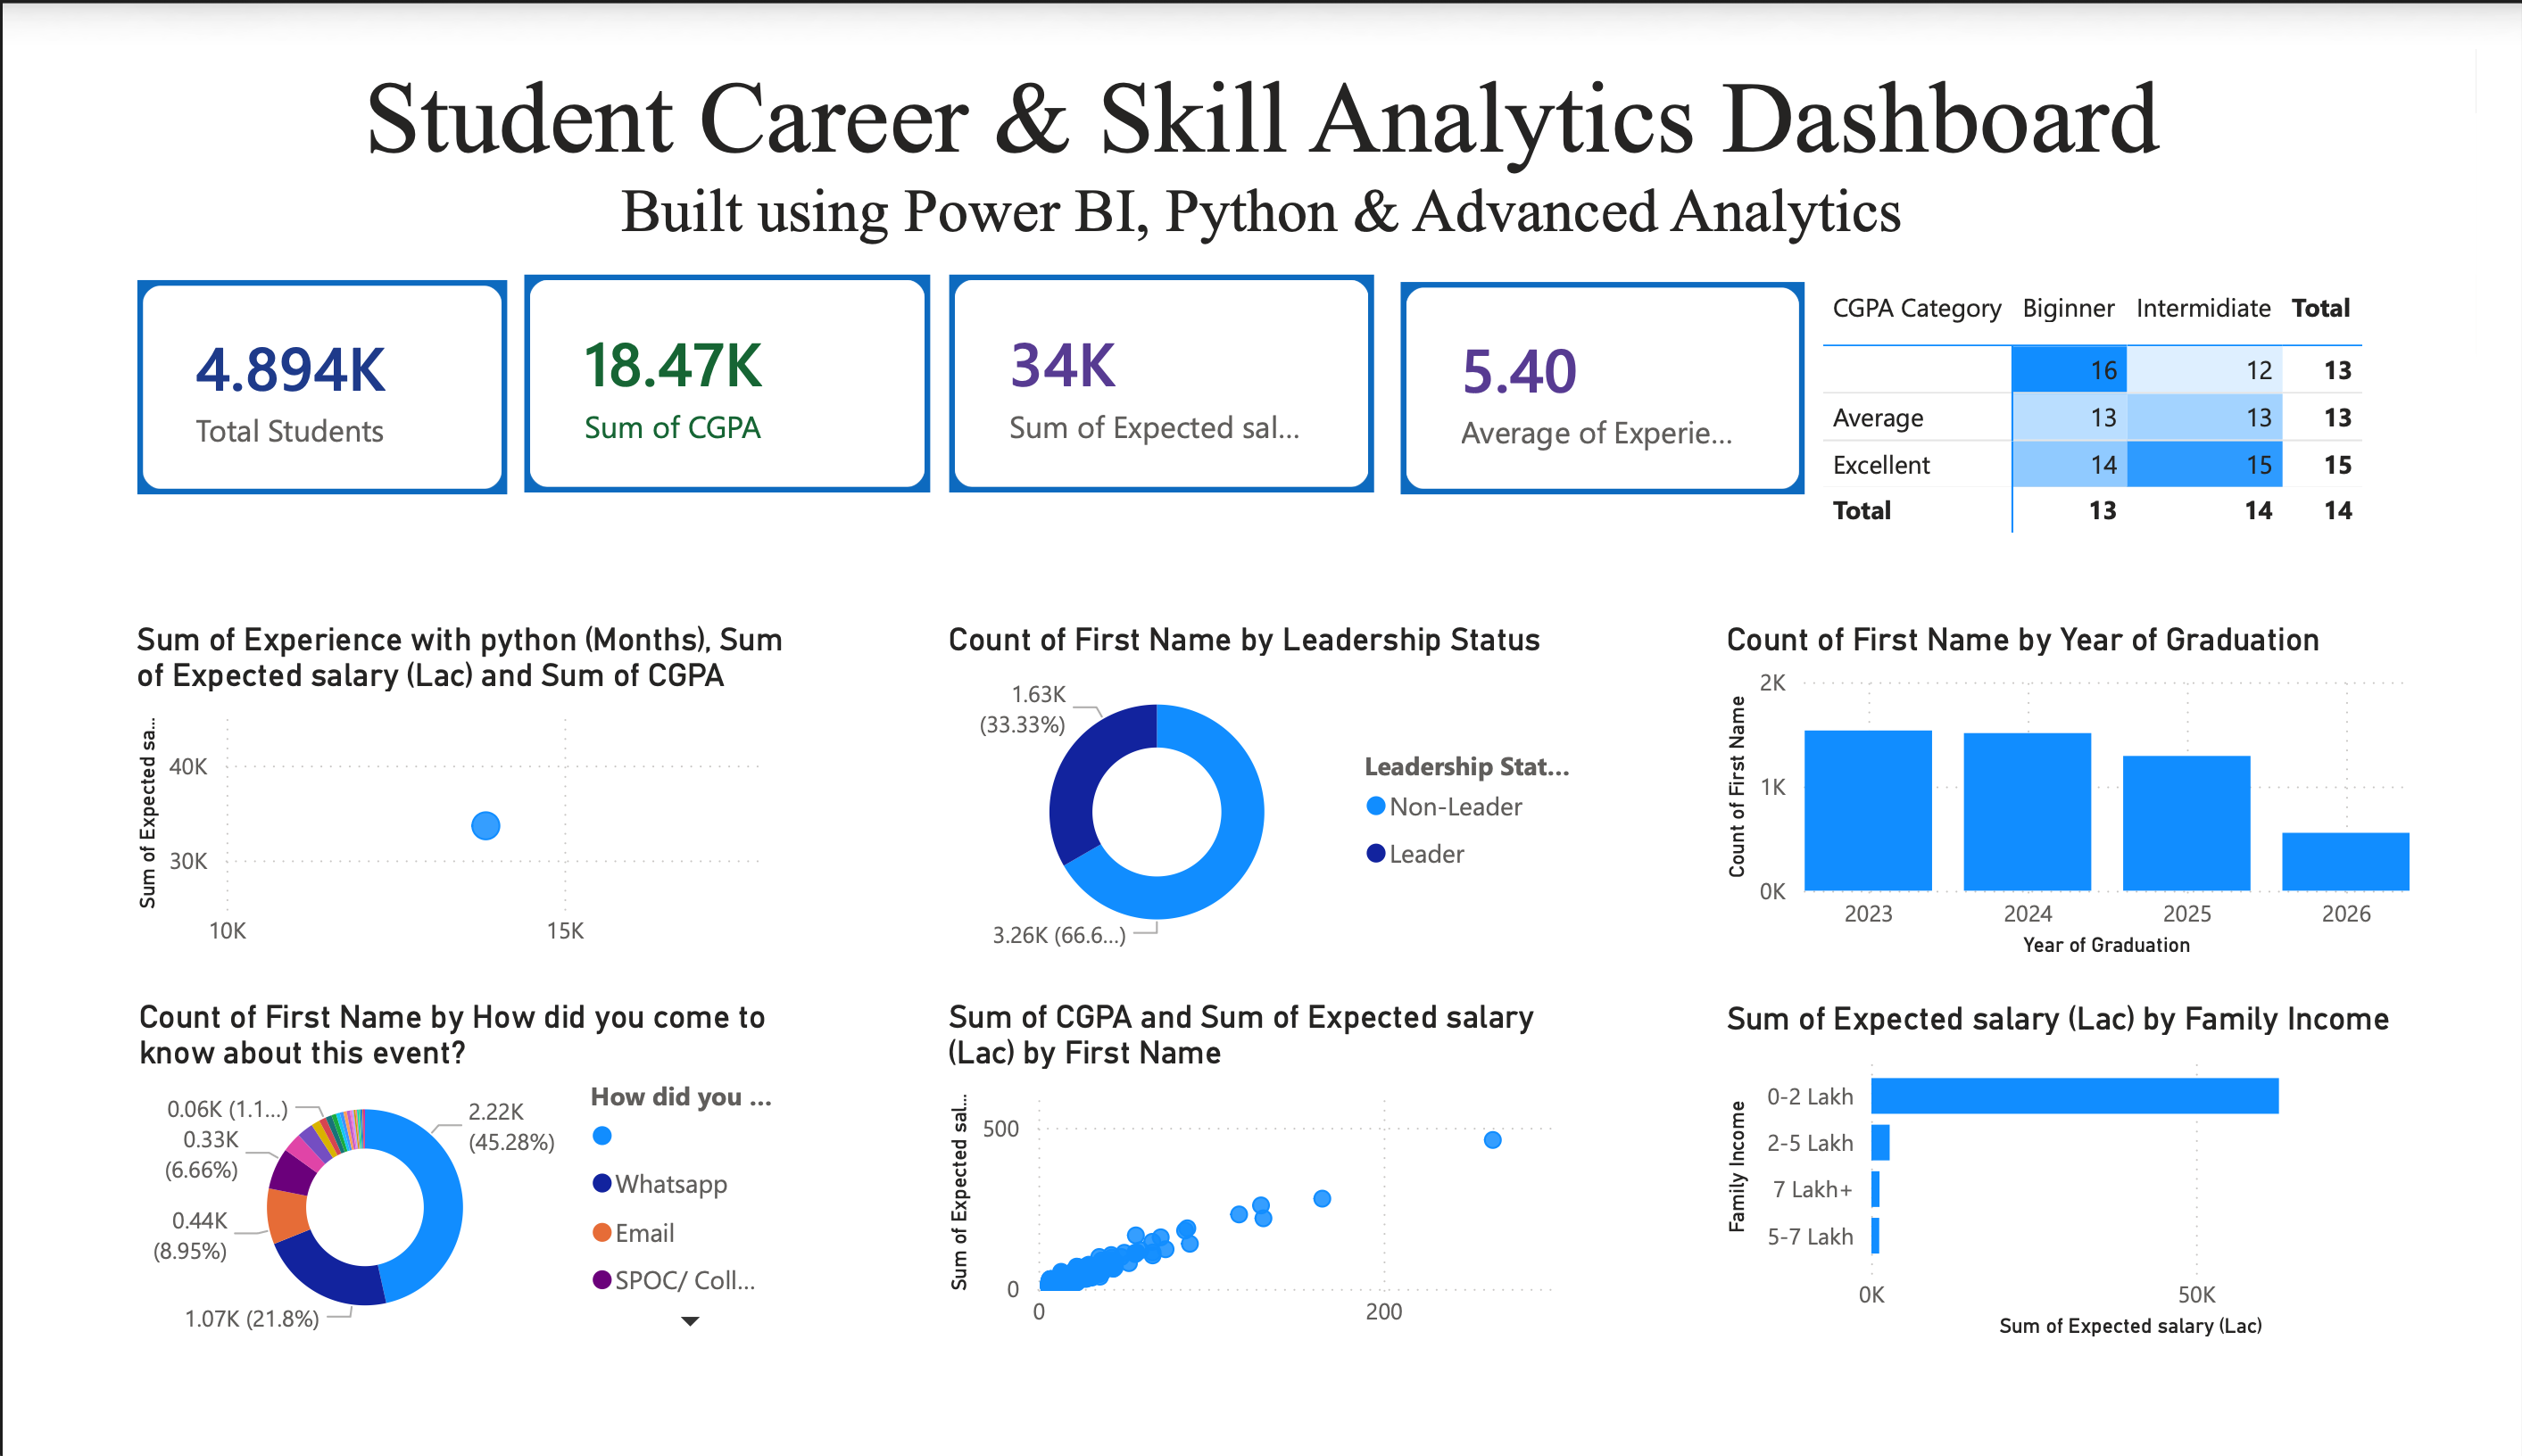

The page's visual inventory and layout, read from the dashboard file:
{"tool":"powerbi","page":{"name":"Page 1","canvas":[1280,720],"ordinal":0},"visuals":[{"type":"cardVisual","title":"Total Students","fields":{"Data":["CountNonNull(Data.First Name)"]},"box":[42.2,116.7,205.6,123.3],"z":0},{"type":"cardVisual","fields":{"Data":["Sum(Data.CGPA)"]},"box":[245.6,114.4,224.4,125.6],"z":1000},{"type":"cardVisual","fields":{"Data":["Sum(Data.Expected salary (Lac))"]},"box":[470,114.4,234.4,125.6],"z":2000},{"type":"scatterChart","fields":{"X":["Sum(Data.CGPA)"],"Y":["Sum(Data.Expected salary (Lac))"],"Category":["Data.First Name"]},"box":[470,500,340,184.3],"z":3000},{"type":"scatterChart","fields":{"X":["Sum(Data.Experience with python (Months))"],"Y":["Sum(Data.Expected salary (Lac))"],"Size":["Sum(Data.CGPA)"]},"box":[42.4,300.8,351.3,181.7],"z":4000},{"type":"donutChart","fields":{"Y":["CountNonNull(Data.First Name)"],"Category":["Data.Leadership Status"]},"box":[470.4,300.8,339.2,183.7],"z":5000},{"type":"donutChart","fields":{"Category":["Data.How did you come to know about this event?"],"Y":["CountNonNull(Data.First Name)"]},"box":[42.9,500,351.4,184.3],"z":6000},{"type":"clusteredColumnChart","fields":{"Category":["Data.Year of Graduation"],"Y":["CountNonNull(Data.First Name)"]},"box":[880.3,300.8,369.5,181.7],"z":7000},{"type":"barChart","fields":{"Category":["Data.Family Income"],"Y":["Sum(Data.Expected salary (Lac))"]},"box":[880.3,500.7,369.5,183.7],"z":8000},{"type":"pivotTable","fields":{"Rows":["Data.CGPA Category"],"Columns":["Data.Python Skill Level"],"Values":["Avg(Data.Expected salary (Lac))"]},"box":[931.4,118.6,300,145.7],"z":9000},{"type":"textbox","box":[0,0,1280,119.1],"z":10000},{"type":"cardVisual","fields":{"Data":["Avg(Data.Experience with python (Months))"]},"box":[707.8,117.8,223.3,122.2],"z":10001}]}

Visuals, with their boxes in screenshot pixels (x1, y1, x2, y2), scaled from the page's 1280x720 canvas onto the 2522x1456 screenshot:
"Total Students" cardVisual: 83, 236, 488, 485
cardVisual - Sum(Data.CGPA): 484, 231, 926, 485
cardVisual - Sum(Data.Expected salary (Lac)): 926, 231, 1388, 485
scatterChart - Sum(Data.CGPA) x Sum(Data.Expected salary (Lac)): 926, 1011, 1596, 1384
scatterChart - Sum(Data.Experience with python (Months)) x Sum(Data.Expected salary (Lac)): 84, 608, 776, 976
donutChart - CountNonNull(Data.First Name) x Data.Leadership Status: 927, 608, 1595, 980
donutChart - Data.How did you come to know about this event? x CountNonNull(Data.First Name): 85, 1011, 777, 1384
clusteredColumnChart - Data.Year of Graduation x CountNonNull(Data.First Name): 1735, 608, 2462, 976
barChart - Data.Family Income x Sum(Data.Expected salary (Lac)): 1735, 1013, 2462, 1384
pivotTable - Data.CGPA Category x Data.Python Skill Level: 1835, 240, 2427, 534
textbox: 0, 0, 2521, 241
cardVisual - Avg(Data.Experience with python (Months)): 1395, 238, 1835, 485
